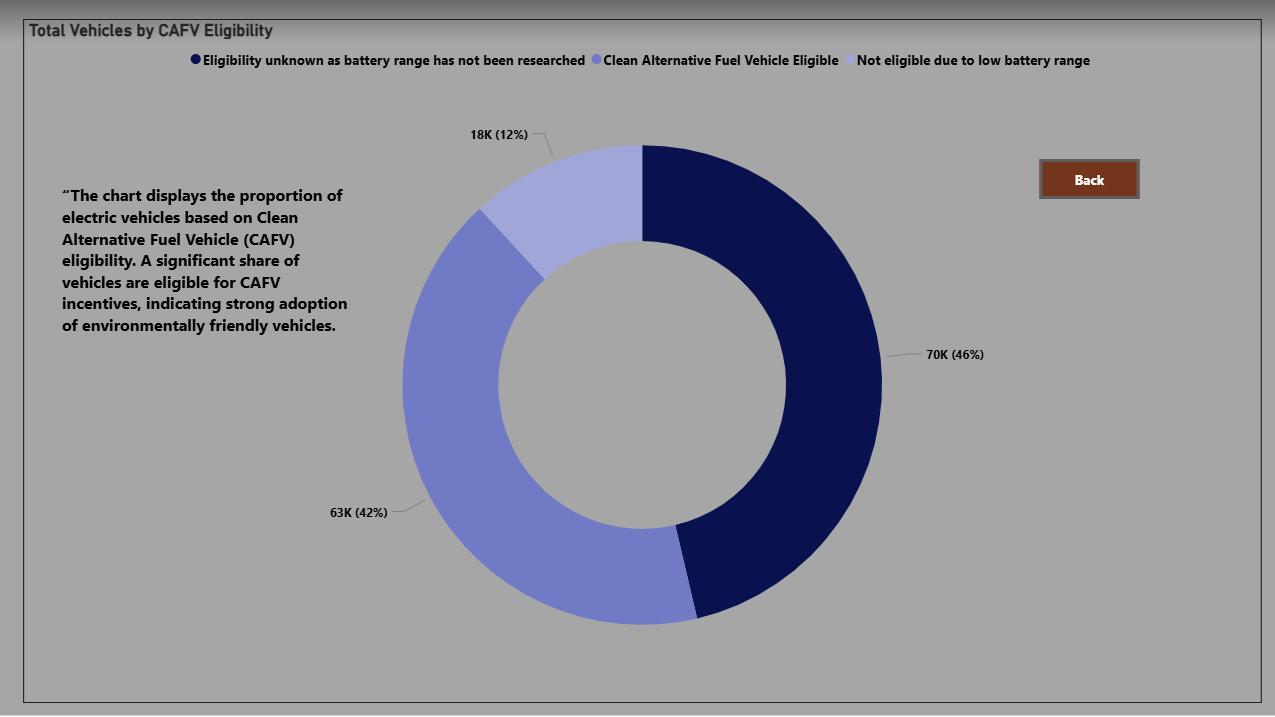

The dashboard page shown, as its layout file describes it:
{"tool":"powerbi","page":{"name":"Detailed Analysis","canvas":[1280,720],"ordinal":1},"visuals":[{"type":"donutChart","title":"Total Vehicles by CAFV Eligibility","fields":{"Category":["Electric_Vehicle_Population_Data.Clean Alternative Fuel Vehicle (CAFV) Eligibility"],"Y":["Electric_Vehicle_Population_Data.Total Vehicles"]},"box":[26.2,20,1238.8,683.8],"z":0},{"type":"textbox","box":[60,180,300,188.8],"z":1000},{"type":"actionButton","box":[1042.5,160,100,40],"z":3000}]}

Visuals, with their boxes in screenshot pixels (x1, y1, x2, y2), scaled from the page's 1280x720 canvas onto the 1275x717 screenshot:
"Total Vehicles by CAFV Eligibility" donutChart: region(26, 20, 1260, 701)
textbox: region(60, 179, 359, 367)
actionButton: region(1038, 159, 1138, 199)
